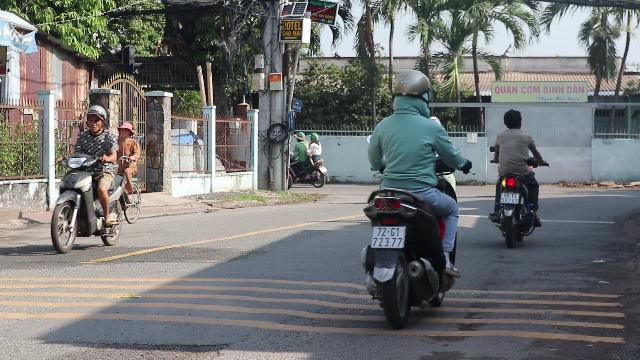helmet: (391, 67, 432, 115), (84, 105, 108, 132)
licenseplate: (372, 226, 404, 248), (501, 193, 519, 204)
motorcyclist: (356, 63, 468, 324), (48, 102, 134, 254), (486, 108, 546, 244)
nohelmet: (502, 108, 522, 130)
